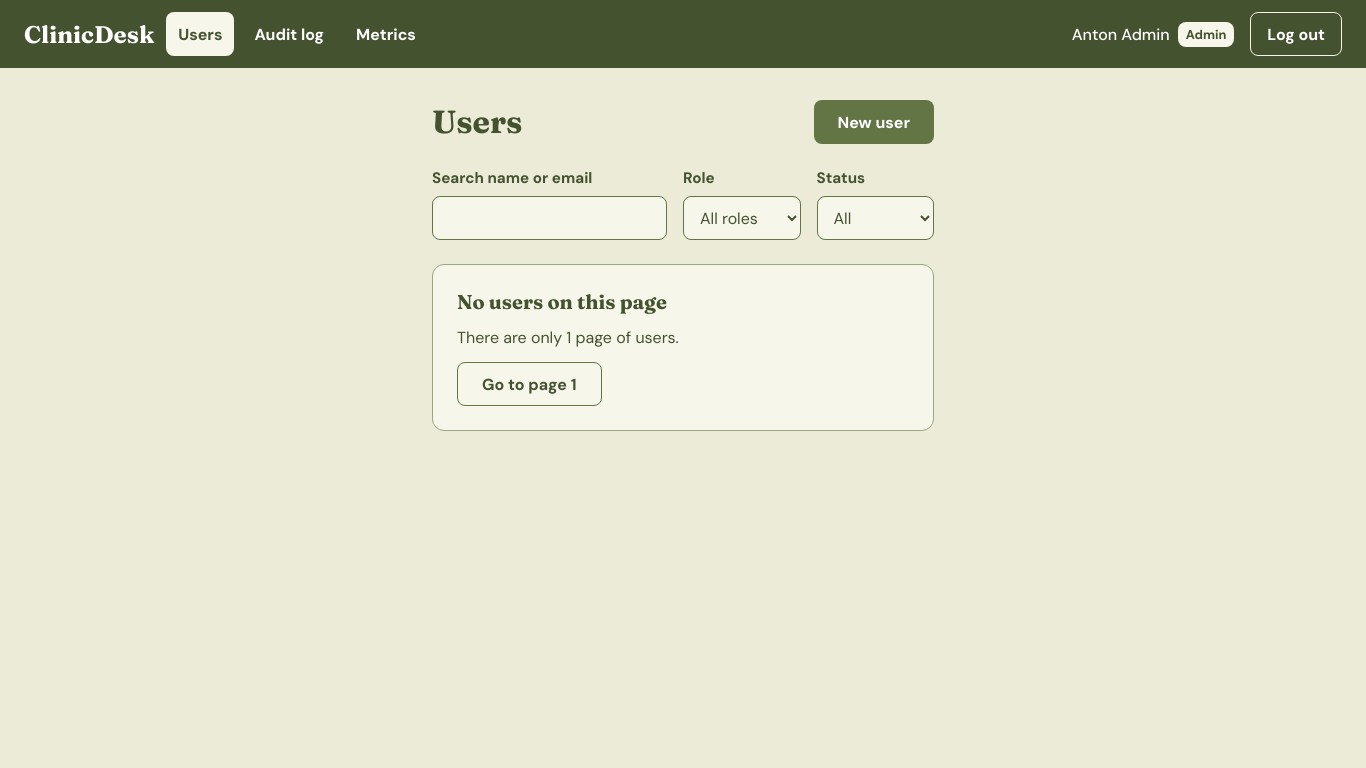
Scenario: user list › offers page 1 when the page in the URL is past the end
What coordinates should you click on to do the following:
click the button "Go to page 1"
I would click on:
 (529, 384)
Its box is top-left (457, 362), bottom-right (602, 406).
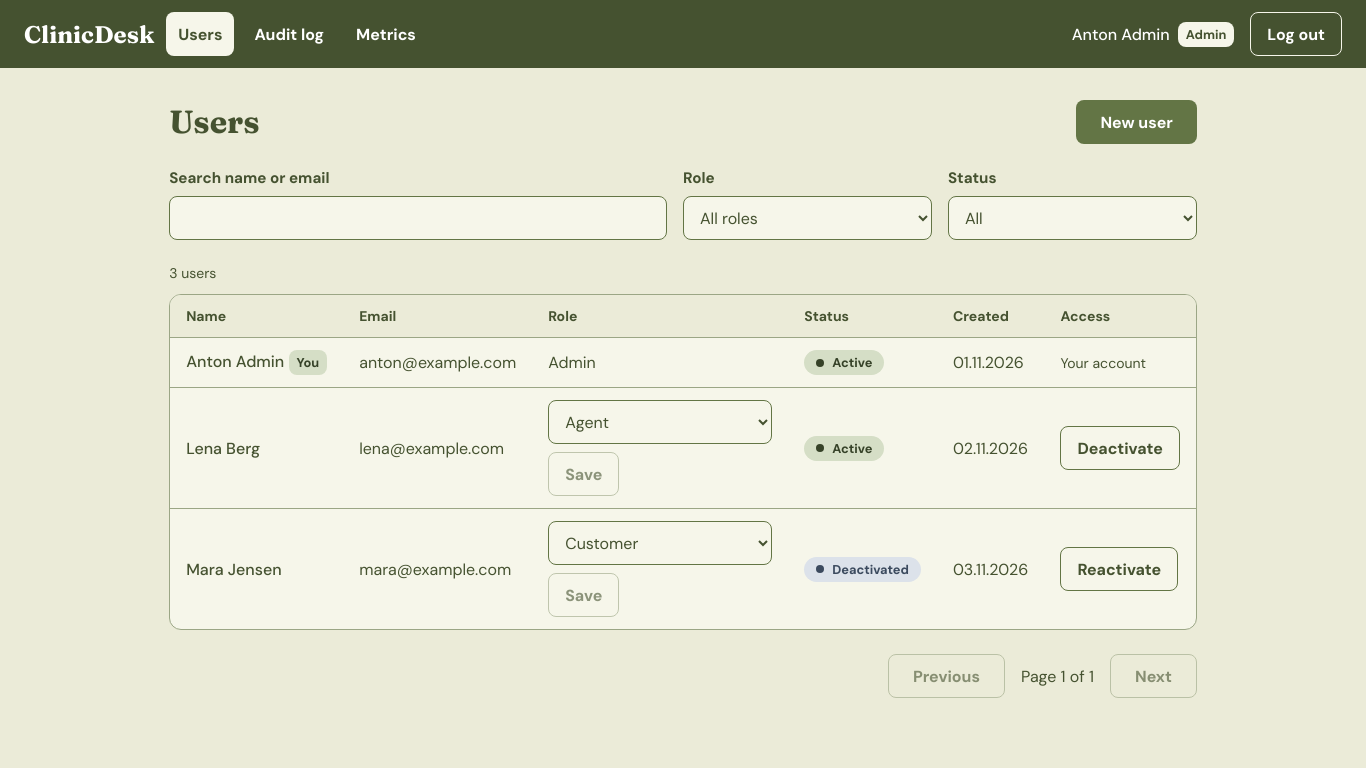
Now the table is shown, box top-left (170, 295), bottom-right (1196, 629)
